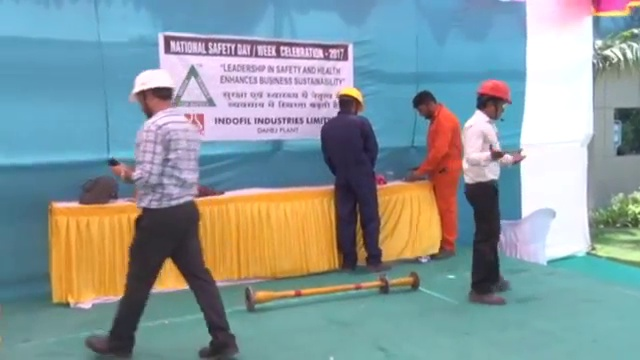helmet: (124, 68, 178, 102), (476, 79, 514, 104), (338, 85, 368, 110)
helmet_off: (413, 90, 440, 121)
helmet_on: (122, 67, 178, 119), (475, 78, 516, 124), (336, 83, 368, 116)
person: (81, 67, 242, 360), (462, 78, 528, 305), (320, 83, 393, 271), (410, 88, 462, 263)
